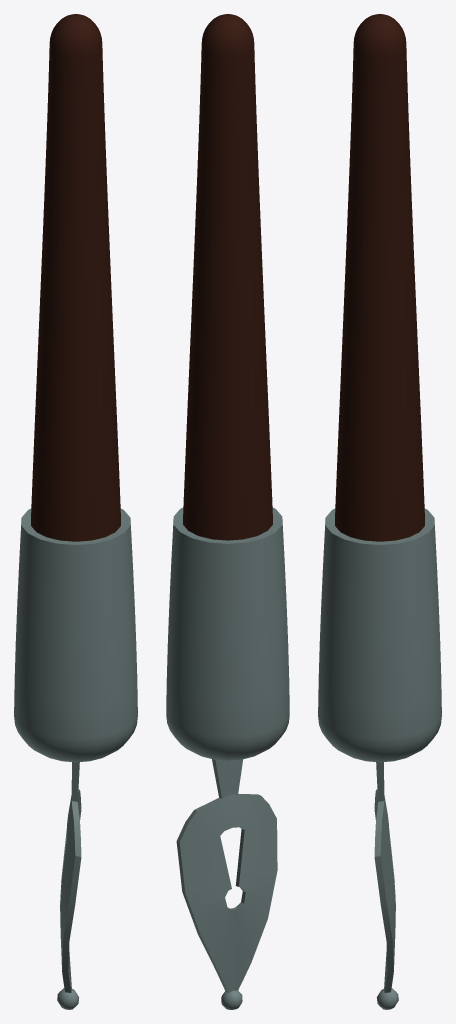
File: Fountain_Pen.FBX
The picture shows the model from 3 angles, left to right: view 1: azimuth 90°, elevation 25°; view 2: azimuth 210°, elevation 25°; view 3: azimuth 270°, elevation 25°; orthographic projection.
Parts seen in each view (by area): view 1: Prism002; view 2: Prism002; view 3: Prism002.
Part boxes in pixels (left/top/right/bottom): Prism002: left=14, top=14, right=137, bottom=1009; Prism002: left=166, top=14, right=289, bottom=1009; Prism002: left=318, top=14, right=441, bottom=1009.
Bounding box in the file's own units: 142 × 1236 × 140.
